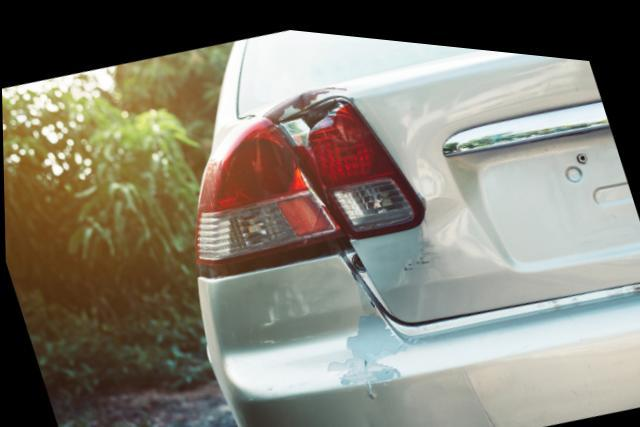dent: (426, 184, 495, 247), (360, 405, 384, 427)
dislocated part: (197, 229, 414, 340)
lamp broken: (194, 89, 424, 262)
scratch: (315, 299, 404, 385)
